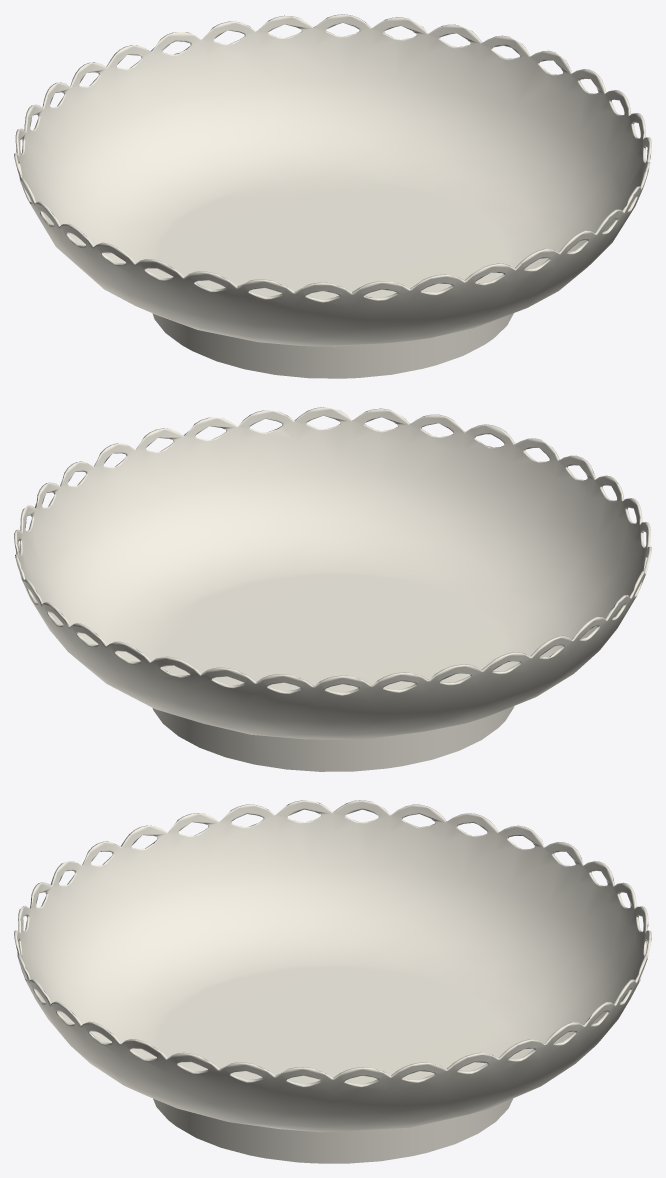
3 views of the same model, one above another, from view 1: azimuth 30°, elevation 25°; view 2: azimuth 150°, elevation 25°; view 3: azimuth 270°, elevation 25° (orthographic).
Parts seen in each view (by area): view 1: ASY_ART_00609088_S01_NV01; view 2: ASY_ART_00609088_S01_NV01; view 3: ASY_ART_00609088_S01_NV01.
Boxes of the visible parts, x1,y1,x2,y2 form: ASY_ART_00609088_S01_NV01: (14, 14, 651, 378); ASY_ART_00609088_S01_NV01: (14, 407, 651, 771); ASY_ART_00609088_S01_NV01: (14, 800, 651, 1163).
Size of the model in its own units: 0.146 by 0.0386 by 0.1464.
2 materials, 2 textured.
